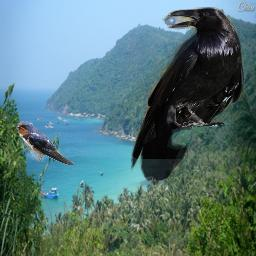Crow: (131, 7, 245, 184)
Swallow: (16, 121, 74, 165)
